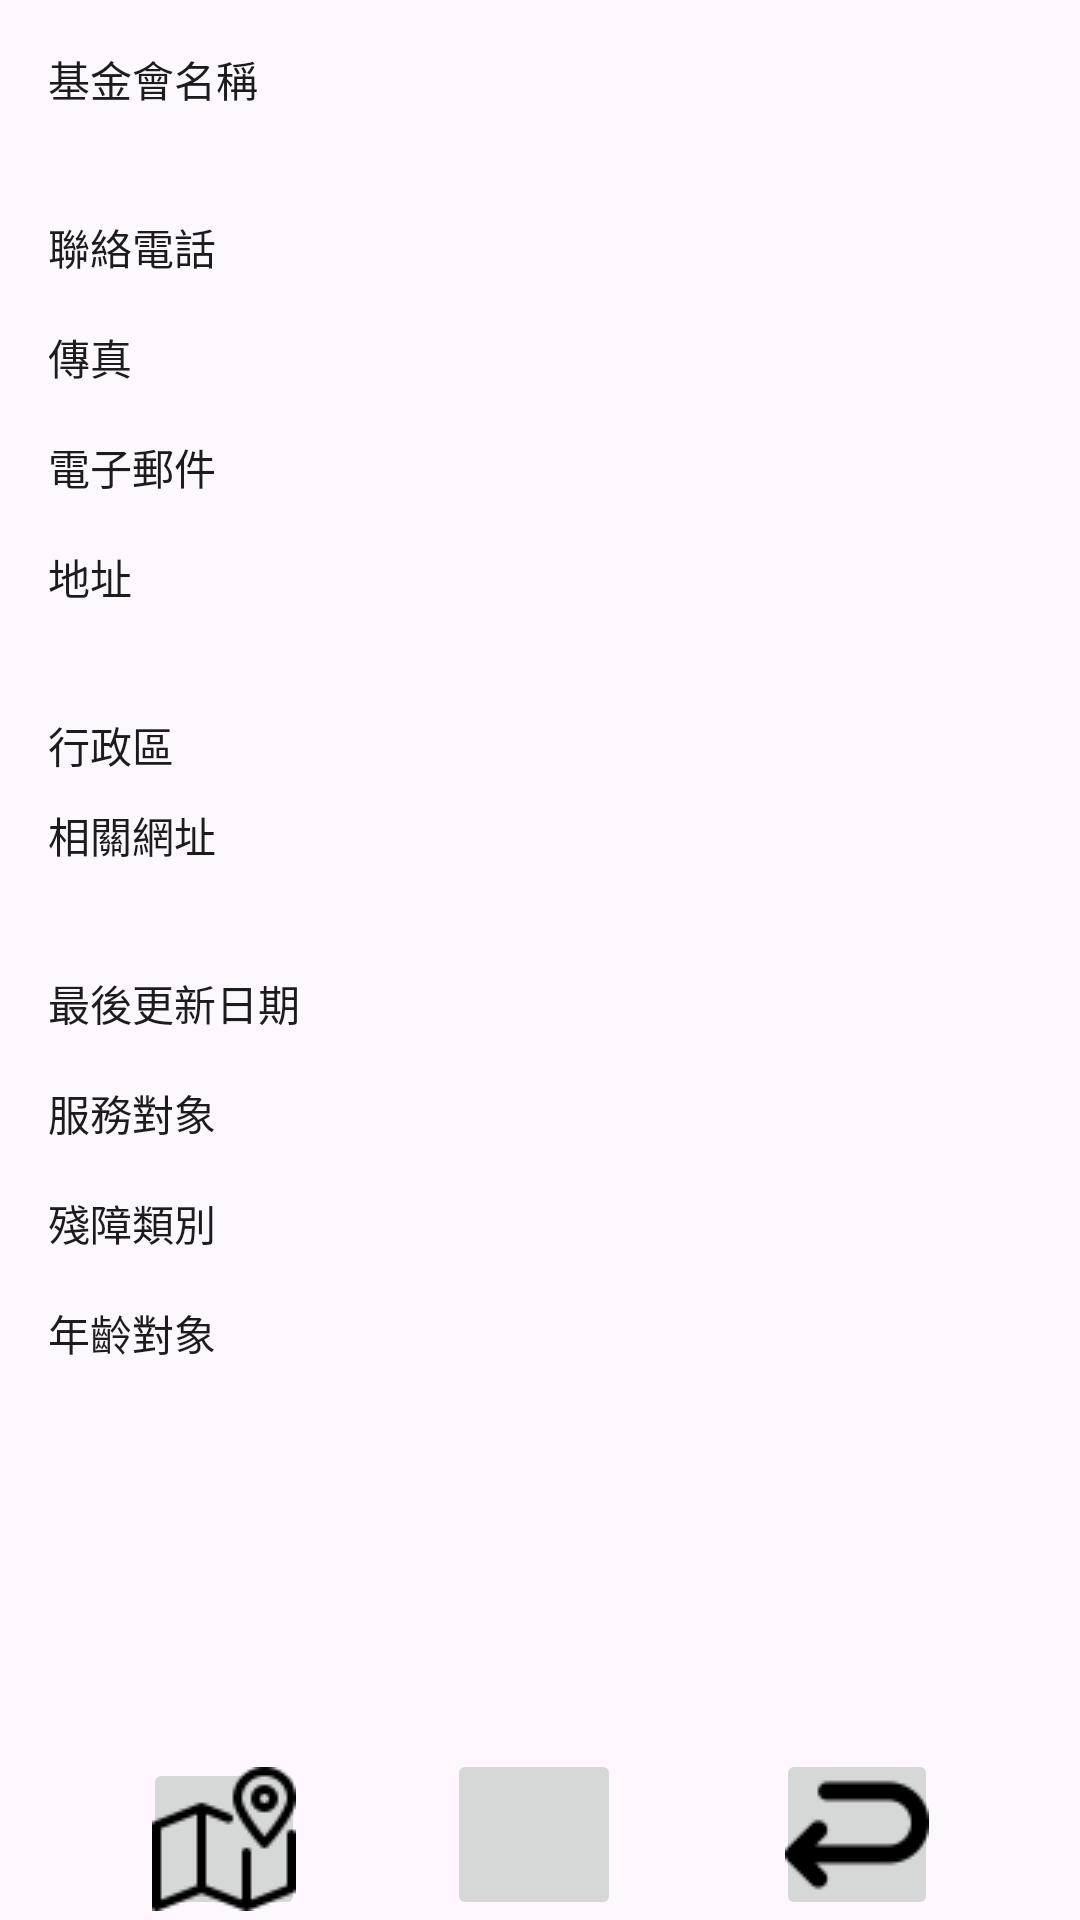

Named icons in this screenshot (1080 x 1920) and their centers, [x,y]:
map: [224,1839]
returnpage: [857,1834]
